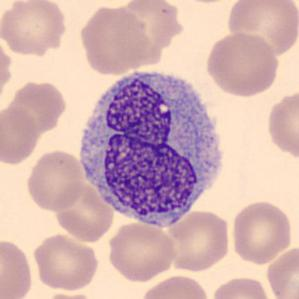Monocyte: (72, 61, 232, 234)
RBC: (76, 3, 152, 77), (204, 30, 282, 98), (104, 220, 178, 283), (162, 208, 232, 274), (120, 0, 186, 66), (229, 198, 294, 265), (225, 0, 299, 58), (50, 178, 115, 244), (30, 232, 100, 292), (24, 148, 86, 213), (0, 0, 69, 57), (12, 79, 66, 137), (0, 102, 42, 167), (264, 86, 299, 163), (0, 236, 35, 299), (138, 272, 211, 299), (264, 244, 298, 299), (210, 274, 274, 299), (39, 289, 98, 299)
